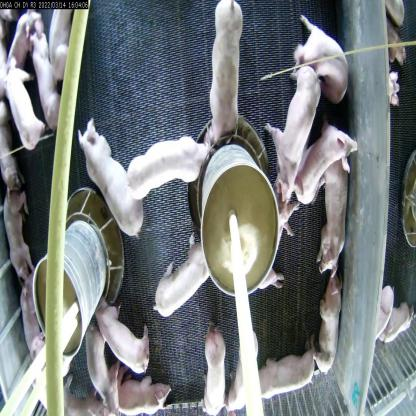Pig: (265, 54, 320, 211), (74, 125, 142, 240), (204, 0, 248, 148), (124, 124, 213, 196), (290, 118, 354, 208), (87, 284, 154, 369), (292, 11, 349, 104), (150, 234, 211, 320), (309, 268, 349, 377), (314, 161, 350, 279), (27, 27, 66, 130), (249, 347, 321, 402), (1, 61, 43, 153), (99, 368, 174, 415), (75, 319, 118, 399), (5, 178, 33, 281), (230, 325, 261, 415), (202, 319, 228, 415), (19, 280, 41, 358)
